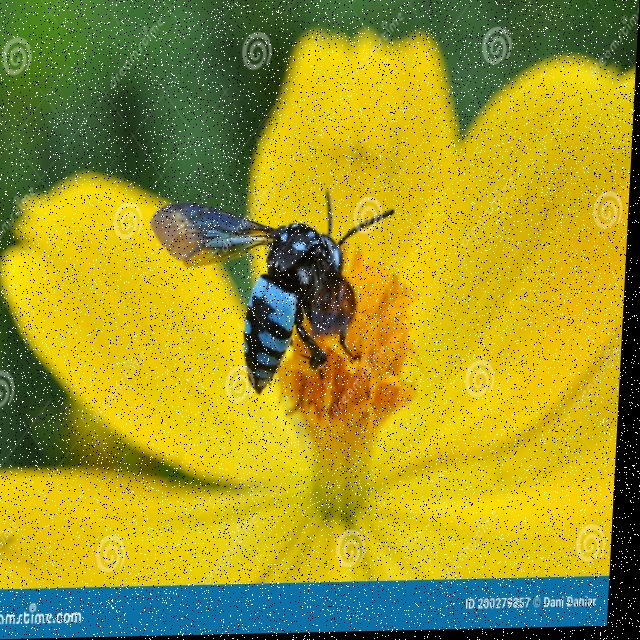Thyreus: (143, 180, 398, 418)
